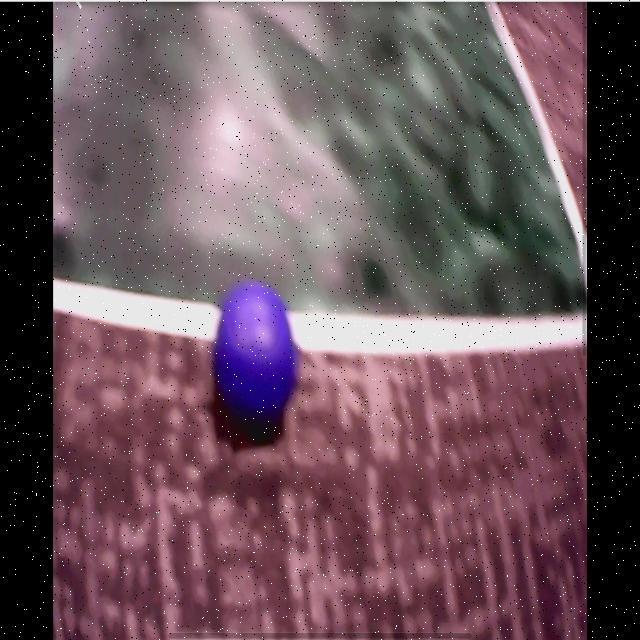ball: (216, 285, 297, 421)
